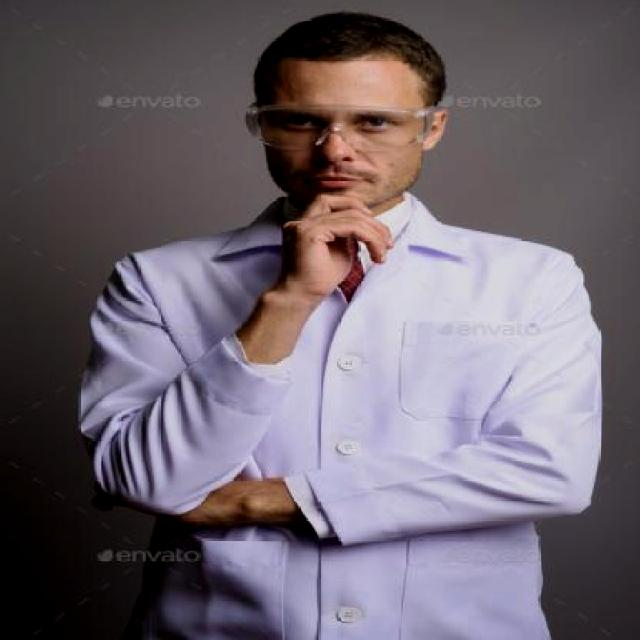face_nomask: (262, 97, 410, 203)
glasses: (234, 100, 451, 152)
hand_noglove: (272, 189, 396, 300)
head_nohelmet: (259, 7, 432, 85)
person: (76, 10, 612, 628)
